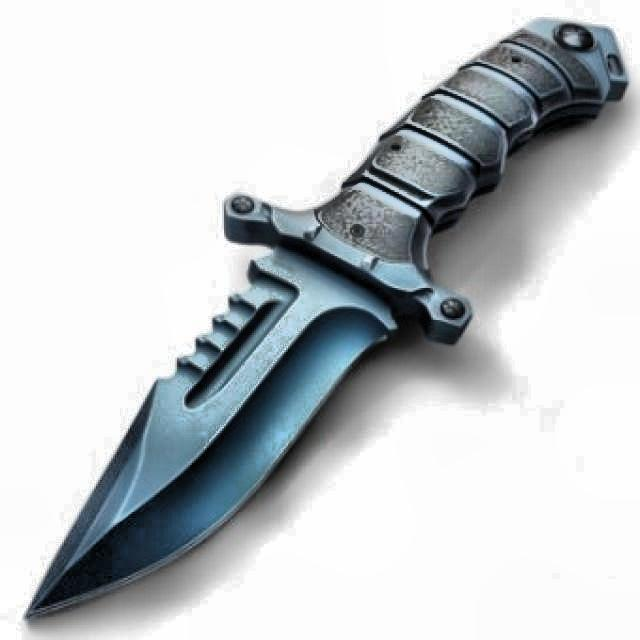knife: (20, 11, 632, 635)
